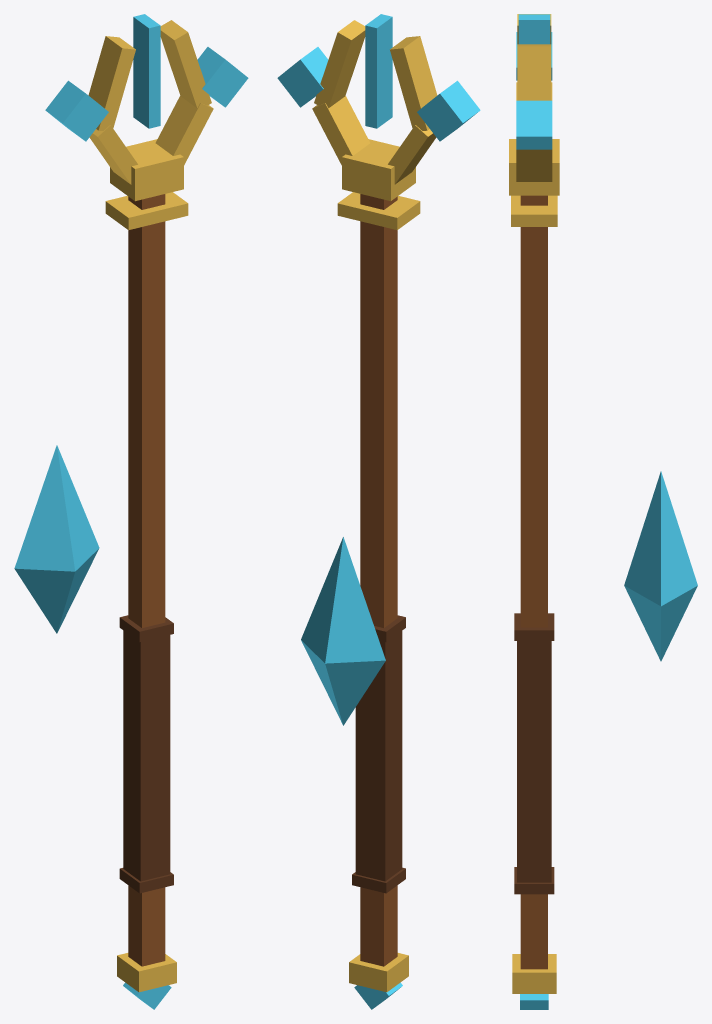
Rendered from staff.glb.
The picture shows the model from 3 angles, left to right: view 1: azimuth 30°, elevation 25°; view 2: azimuth 150°, elevation 25°; view 3: azimuth 270°, elevation 25°; orthographic projection.
Visible parts, largest first — view 1: shaft_upper, grip_leather, grand_focus_crystal, crystal_core, crown_socket, shaft_lower, arch_left_upper, arch_right_upper, arch_right_lower, left_focus_gem, focus_ring_lower, right_focus_gem (+5 smaller); view 2: shaft_upper, grip_leather, grand_focus_crystal, crystal_core, crown_socket, shaft_lower, arch_left_upper, arch_right_upper, arch_right_lower, left_focus_gem, focus_ring_lower, right_focus_gem (+4 smaller); view 3: shaft_upper, grip_leather, grand_focus_crystal, shaft_lower, arch_right_upper, right_focus_gem, crown_socket, butt_cap, focus_ring_lower, arch_right_lower, crystal_core, grip_wrap_upper.001 (+2 smaller).
Part boxes in pixels (x1,y1,x2,y2): shaft_upper: (128, 194, 165, 627); grip_leather: (123, 630, 170, 881); grand_focus_crystal: (14, 445, 99, 633); crystal_core: (133, 14, 160, 128); crown_socket: (110, 139, 183, 201); shaft_lower: (128, 885, 165, 966); arch_left_upper: (88, 36, 135, 130); arch_right_upper: (160, 20, 211, 108); arch_right_lower: (155, 96, 213, 165); left_focus_gem: (45, 80, 108, 141); focus_ring_lower: (105, 192, 188, 230); right_focus_gem: (197, 47, 248, 107); shaft_upper: (360, 194, 397, 627); grip_leather: (355, 631, 402, 881); grand_focus_crystal: (301, 537, 385, 725); crystal_core: (365, 14, 392, 128); crown_socket: (342, 139, 415, 201); shaft_lower: (360, 885, 397, 966); arch_left_upper: (390, 36, 437, 130); arch_right_upper: (314, 20, 365, 108); arch_right_lower: (312, 96, 369, 165); left_focus_gem: (417, 80, 480, 141); focus_ring_lower: (337, 192, 420, 230); right_focus_gem: (277, 47, 328, 107); shaft_upper: (520, 195, 547, 627); grip_leather: (517, 641, 551, 882); grand_focus_crystal: (624, 471, 697, 661); shaft_lower: (520, 894, 547, 969); arch_right_upper: (517, 44, 551, 100); right_focus_gem: (516, 100, 552, 149); crown_socket: (509, 139, 559, 195); butt_cap: (512, 954, 556, 993); focus_ring_lower: (511, 195, 557, 226); arch_right_lower: (516, 149, 552, 181); crystal_core: (518, 14, 550, 44); grip_wrap_upper.001: (514, 613, 554, 640).
Size of the model in its own units: 0.4098 by 2.08 by 0.358.
